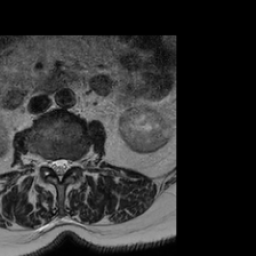CCS_normal: (57, 151, 63, 188)
LFS_stenosis: (71, 151, 79, 174)
LLS_normal: (63, 151, 71, 178)
RFS_normal: (41, 149, 49, 172)
RLS_normal: (49, 152, 57, 180)
